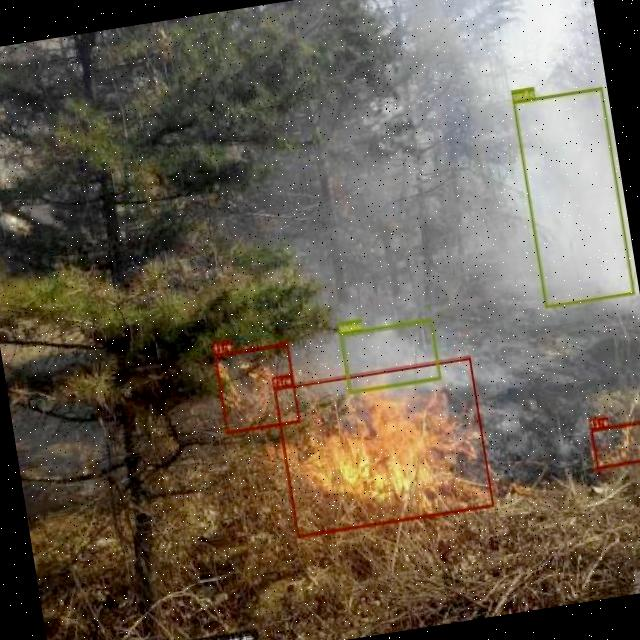fire: (273, 356, 494, 538), (213, 341, 301, 434), (589, 419, 640, 470)
smoke: (512, 86, 634, 309), (339, 317, 442, 393)
